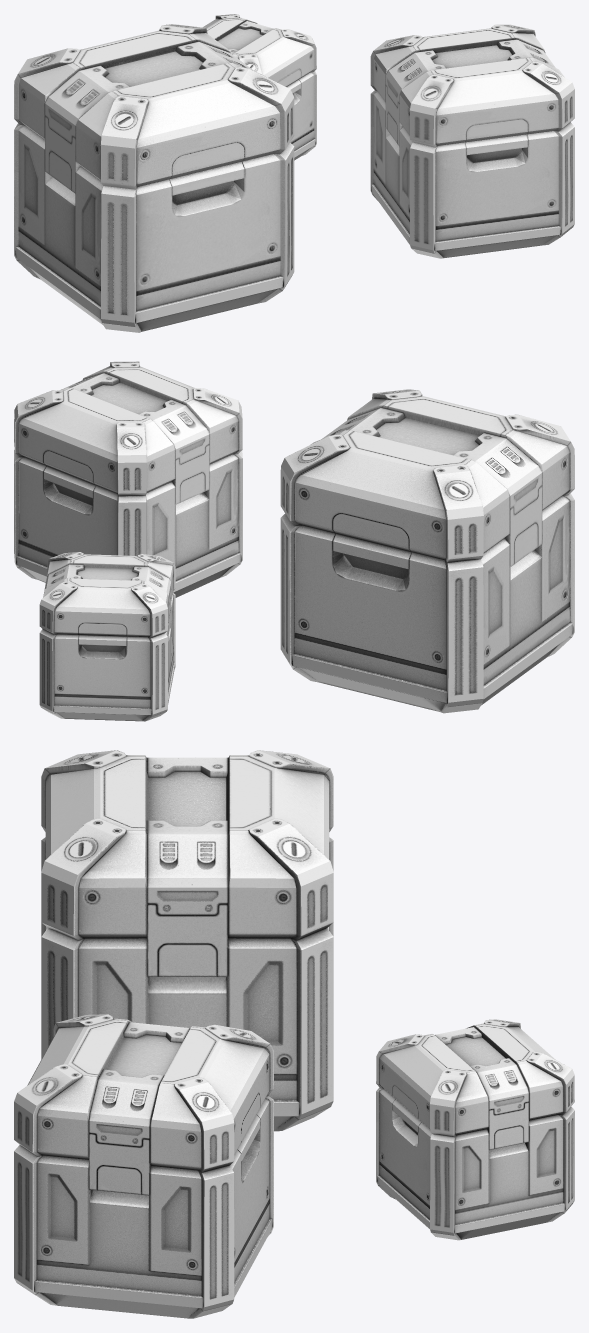
3 views of the same model, one above another, from view 1: azimuth 30°, elevation 25°; view 2: azimuth 150°, elevation 25°; view 3: azimuth 270°, elevation 25° (orthographic). The views are drawn at different scales.
Visible parts, largest first — view 1: Low_KR8, Low_KR8.001, Low_KR8.002; view 2: Low_KR8, Low_KR8.001, Low_KR8.002; view 3: Low_KR8, Low_KR8.001, Low_KR8.002.
Part boxes in pixels (left/top/right/bottom): Low_KR8: left=14, top=24, right=294, bottom=332; Low_KR8.001: left=370, top=24, right=574, bottom=258; Low_KR8.002: left=203, top=14, right=316, bottom=160; Low_KR8: left=280, top=389, right=574, bottom=713; Low_KR8.001: left=14, top=361, right=242, bottom=597; Low_KR8.002: left=39, top=552, right=175, bottom=721; Low_KR8: left=41, top=750, right=333, bottom=1131; Low_KR8.001: left=14, top=1014, right=273, bottom=1318; Low_KR8.002: left=376, top=1019, right=574, bottom=1240.
Size of the model in its own units: 6.33 by 2.76 by 4.85.
1 material, 1 textured.
